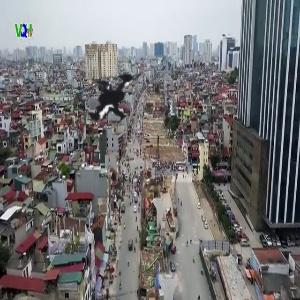drone: (48, 23, 218, 193)
